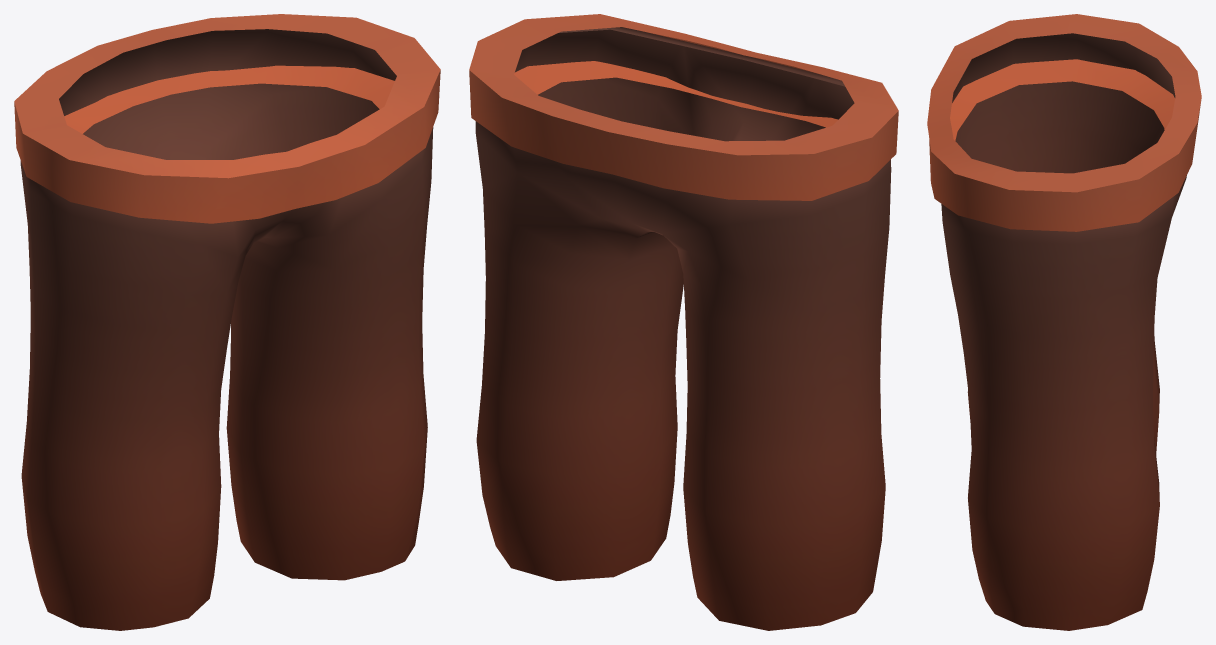
Rendered from Pants_03.glb.
3 renders of one model, left to right at view 1: azimuth 30°, elevation 25°; view 2: azimuth 150°, elevation 25°; view 3: azimuth 270°, elevation 25°, orthographic. The views are drawn at different scales.
Parts seen in each view (by area): view 1: Pants_03; view 2: Pants_03; view 3: Pants_03.
Boxes of the visible parts, box(x1,y1,x2,y2) form: Pants_03: box(14, 14, 440, 630); Pants_03: box(469, 14, 898, 630); Pants_03: box(927, 14, 1201, 630).
Size of the model in its own units: 0.2576 by 0.3064 by 0.1676.
1 material, 1 textured.
